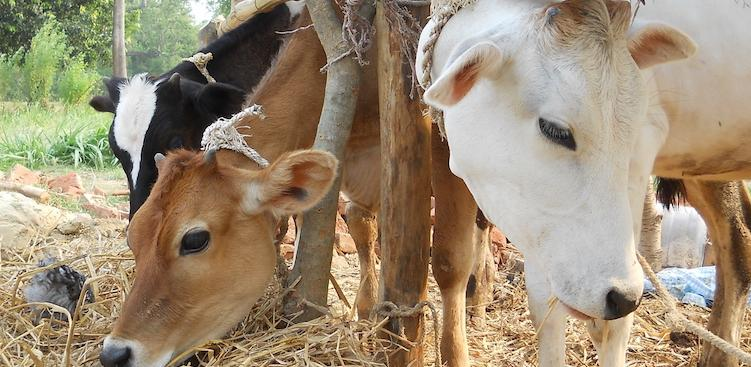cow: (422, 0, 750, 366), (89, 2, 340, 366), (339, 86, 378, 211)
